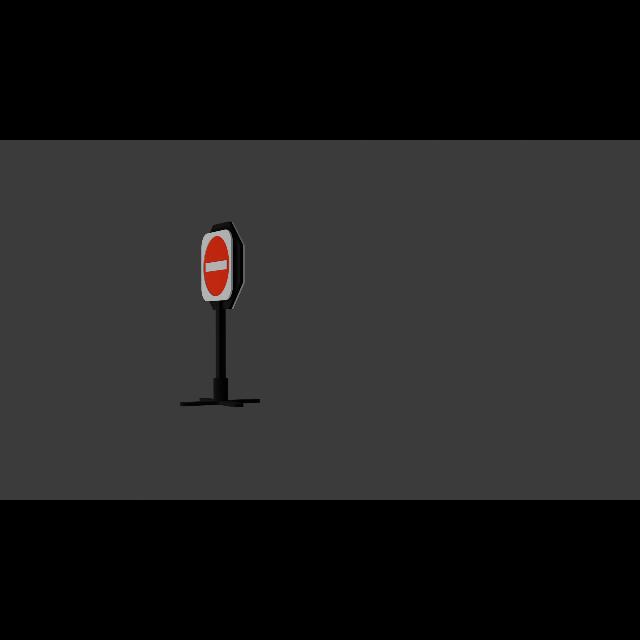sign_noentry: (202, 231, 234, 303)
